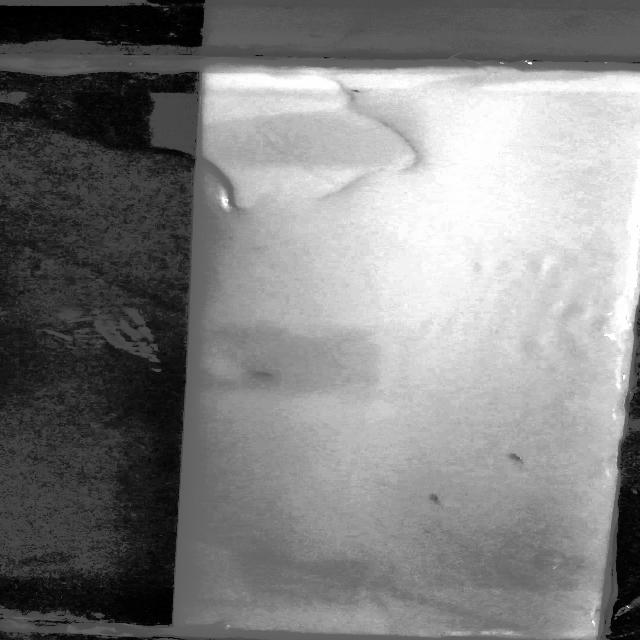shrimp: (248, 370, 286, 378), (421, 492, 447, 503), (505, 452, 526, 463), (348, 85, 369, 96)
